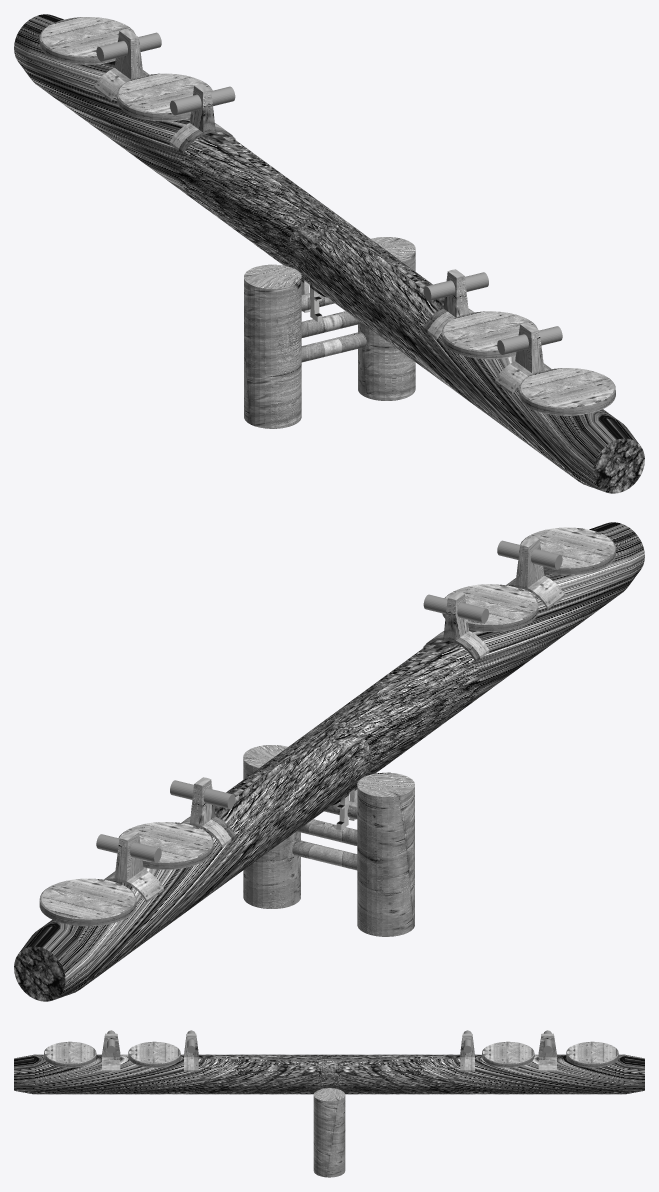
File: slingimajig.fbx
3 renders of one model, top to bottom at view 1: azimuth 30°, elevation 25°; view 2: azimuth 150°, elevation 25°; view 3: azimuth 270°, elevation 25°, orthographic. The views are drawn at different scales.
Visible parts, largest first — view 1: slingimajig; view 2: slingimajig; view 3: slingimajig.
Part boxes in pixels (x1,y1,x2,y2): slingimajig: (14, 14, 644, 493); slingimajig: (14, 522, 644, 1001); slingimajig: (14, 1030, 644, 1177).
Bounding box in the file's own units: 405 × 524 × 2473.
